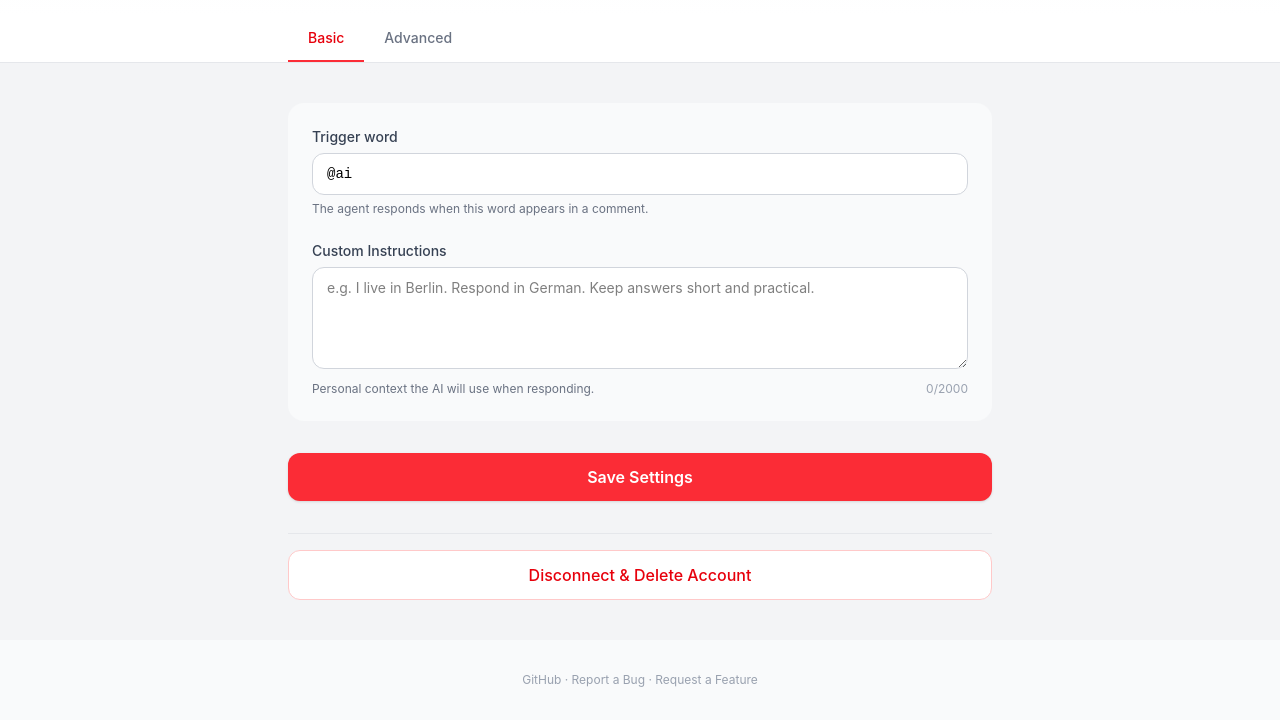
it: Settings: delete account modal › opens confirmation modal on disconnect click
(page scrolled)
Step 1. Click the button "Disconnect & Delete Account" → [640, 575], box [288,550,992,600]
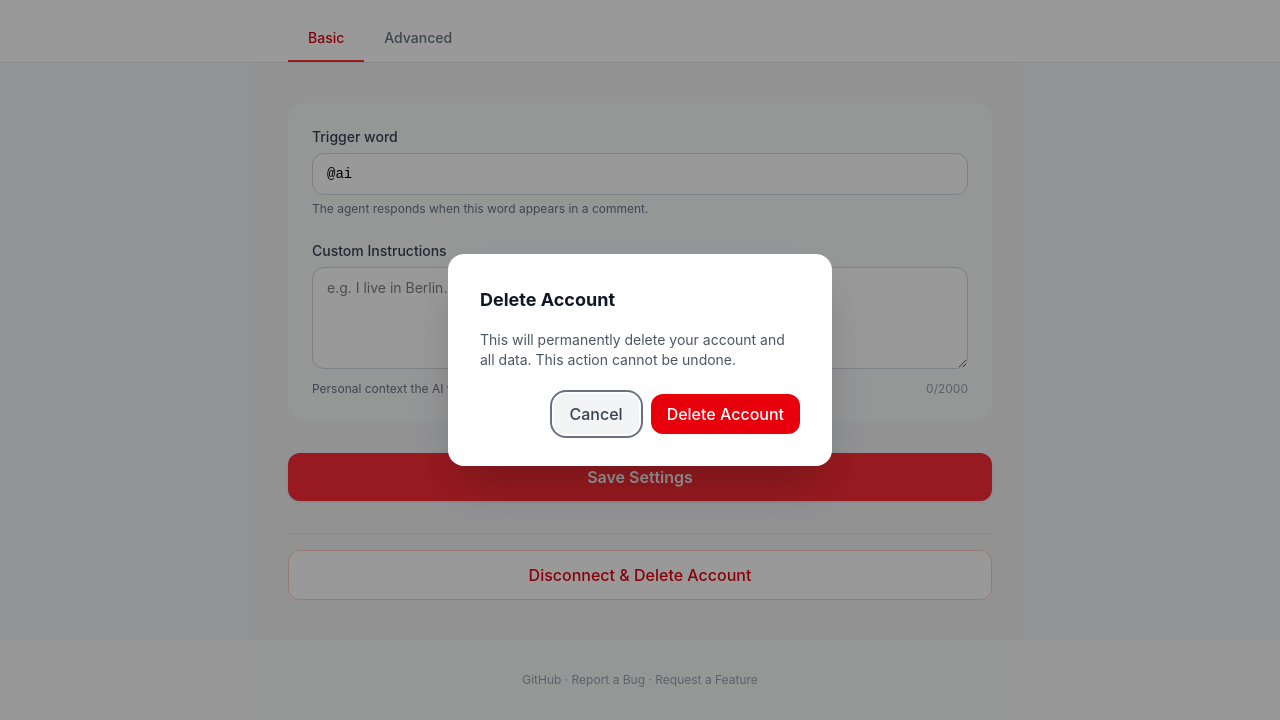
Now the dialog is shown
Now the text "permanently delete your account" is shown, box [480,331,785,368]
